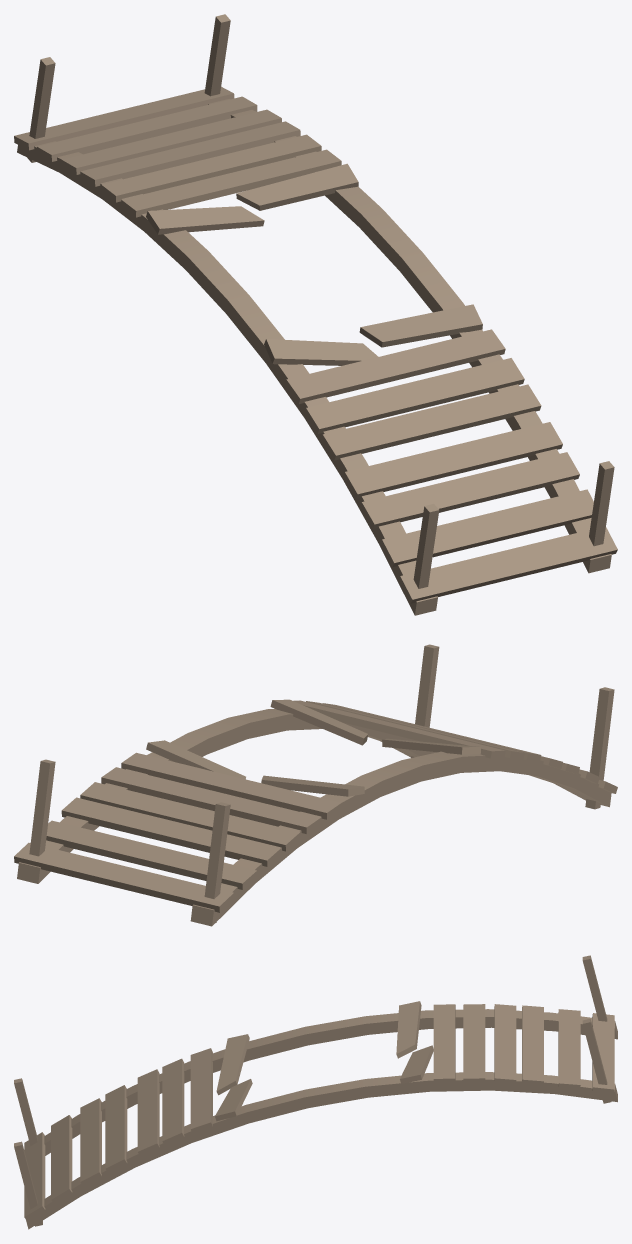
The model's file is Bridge_Broken.fbx.
3 renders of one model, top to bottom at view 1: azimuth 30°, elevation 25°; view 2: azimuth 150°, elevation 25°; view 3: azimuth 270°, elevation 25°, orthographic. The views are drawn at different scales.
Visible parts, largest first — view 1: bridgeBroken; view 2: bridgeBroken; view 3: bridgeBroken.
Part boxes in pixels (box(x1,y1,x2,y2)): bridgeBroken: box(14, 14, 617, 615); bridgeBroken: box(14, 644, 617, 926); bridgeBroken: box(14, 955, 617, 1229).
Size of the model in its own units: 2.95 by 3.78 by 10.07.
